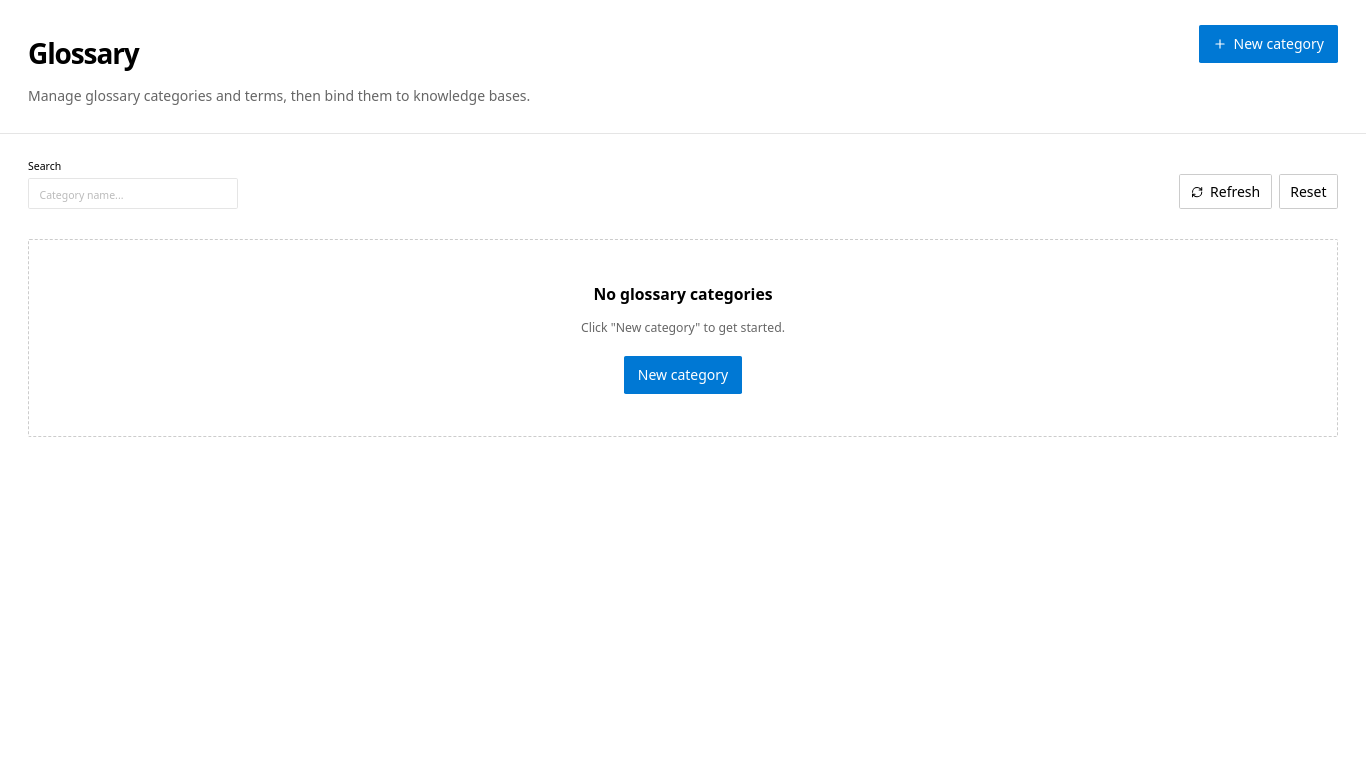
Test: GlossaryListPage › opens the create drawer from the page action
Click the 1st button "New category". click: (1268, 44)
box: [1199,24,1338,63]
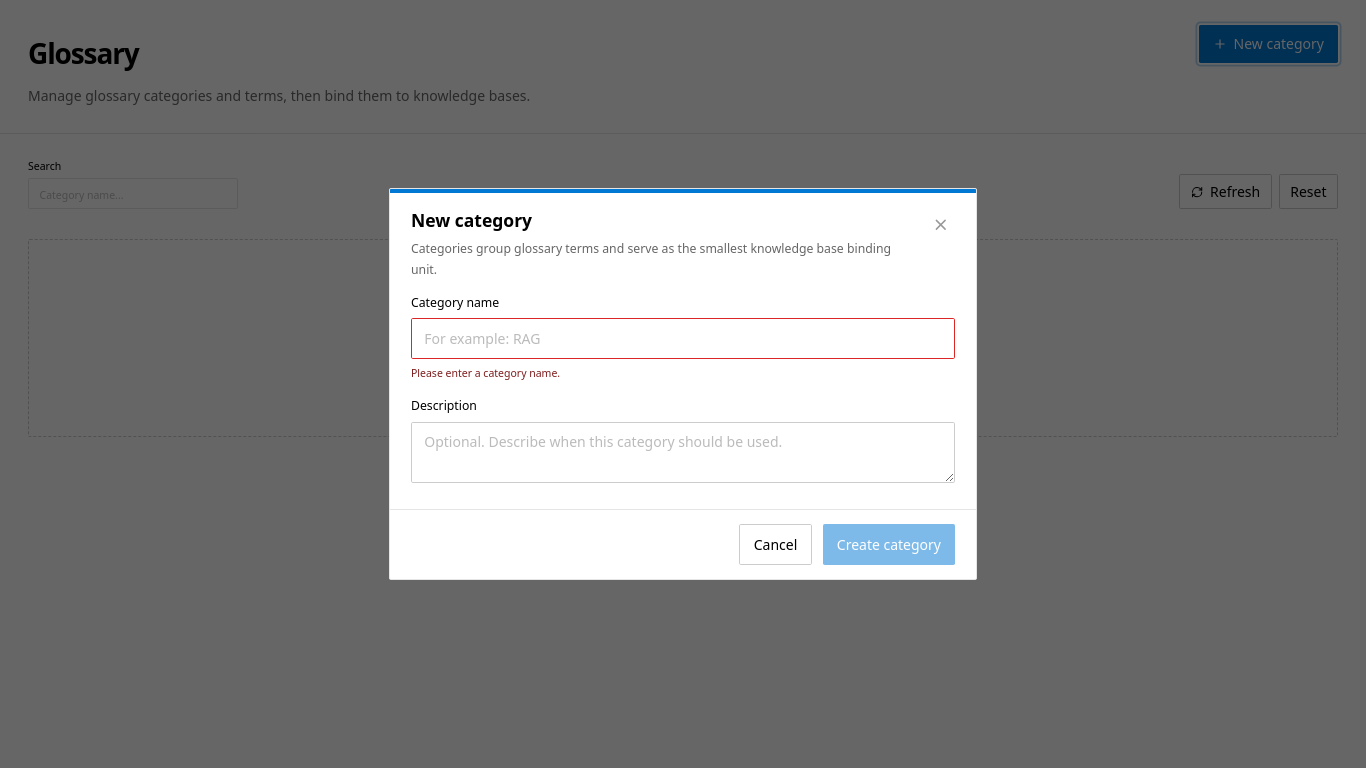
expect the heading "New category" is shown: met, box [411,208,532,232]
